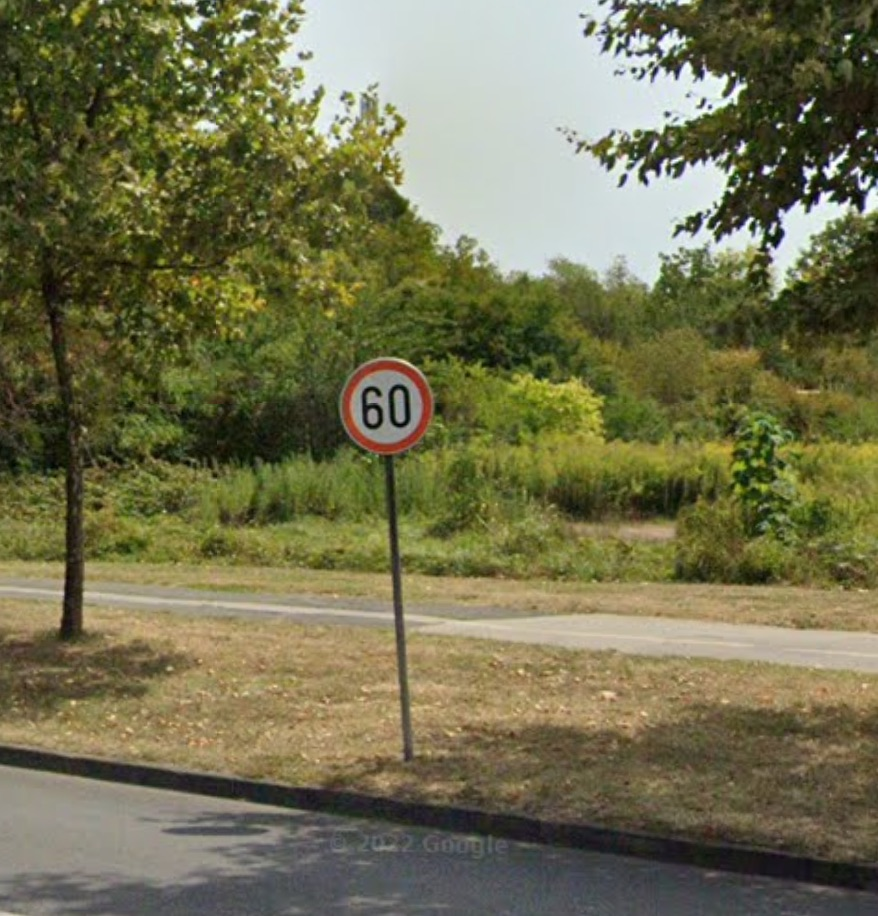Ograničenje brzine 60: (338, 356, 433, 454)
